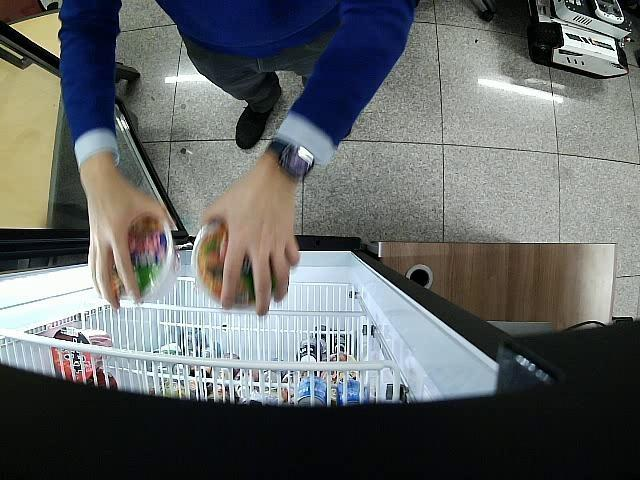09_yukGaeJang: (191, 219, 253, 310), (113, 217, 172, 299)
